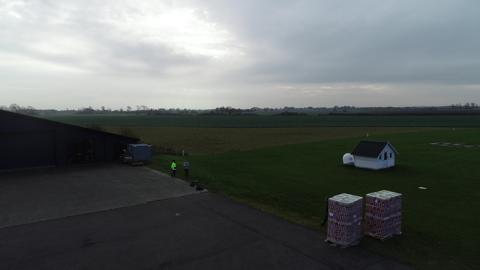RockwoolPallet: (366, 191, 401, 238)
